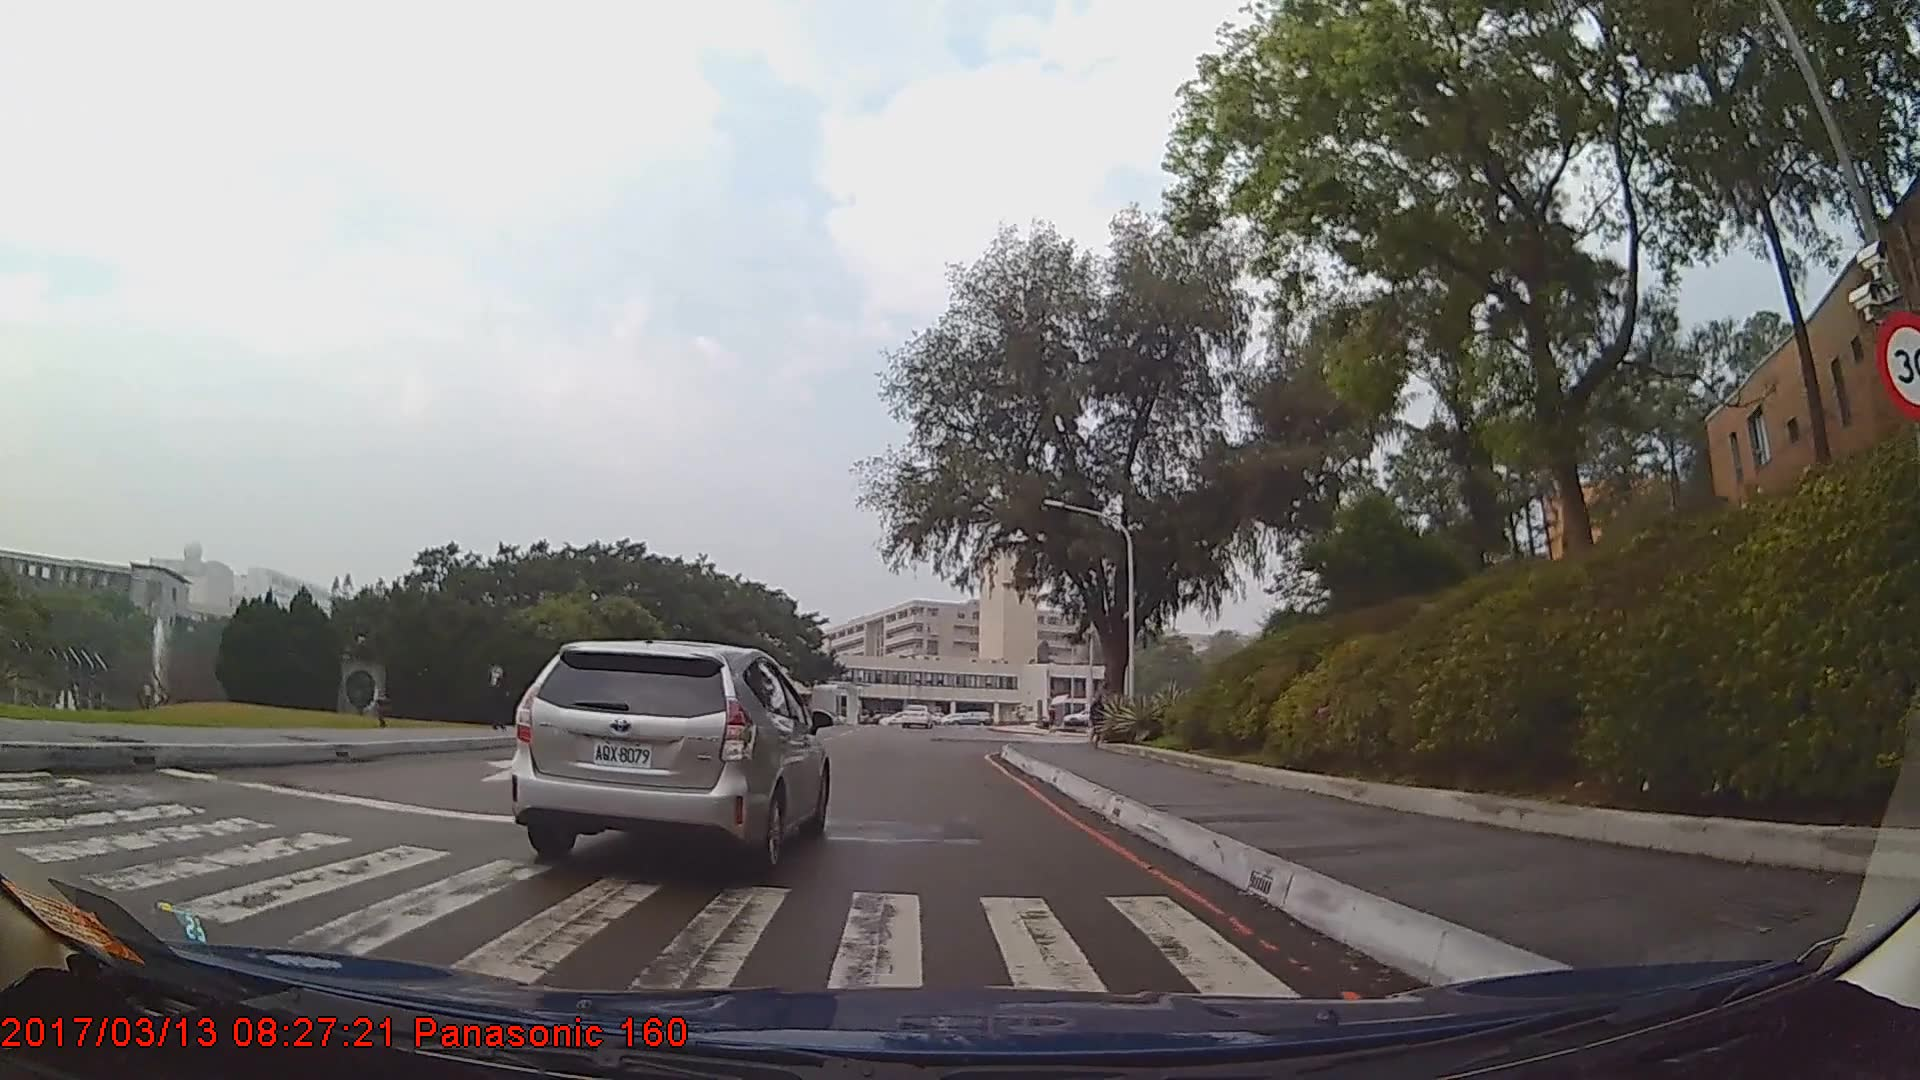pedestrian: (480, 657, 513, 733), (1088, 694, 1108, 748)
vehicle: (507, 636, 831, 879), (897, 703, 931, 730)
